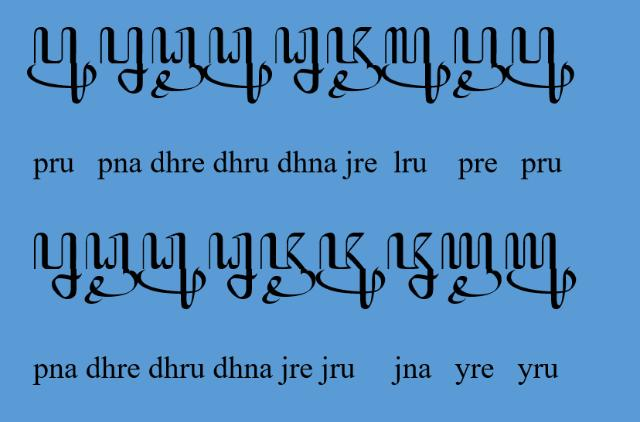dhn: (275, 26, 325, 94), (208, 232, 258, 300)
dhre: (150, 25, 204, 98), (84, 232, 138, 304)
dhru: (136, 232, 206, 310), (204, 27, 272, 105)
jn: (387, 232, 439, 300)
jre: (326, 26, 382, 98), (260, 232, 316, 304)
jru: (316, 232, 386, 310)
lru: (381, 27, 452, 104)
pn: (33, 232, 81, 300), (100, 27, 148, 93)
pre: (454, 26, 506, 98)
pru: (27, 27, 98, 106), (506, 27, 576, 104)
yre: (442, 232, 502, 304)
yru: (504, 232, 578, 310)
